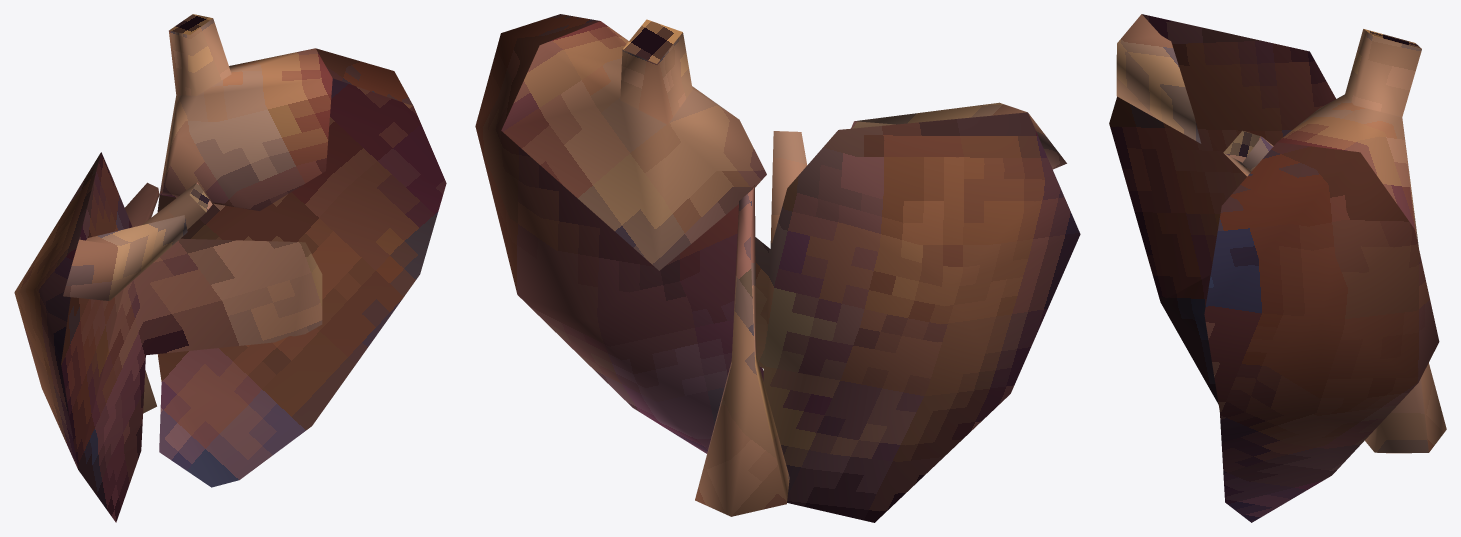
The model's file is eqp_organ_liver_s02_l2.fbx.
The picture shows the model from 3 angles, left to right: view 1: azimuth 30°, elevation 25°; view 2: azimuth 150°, elevation 25°; view 3: azimuth 270°, elevation 25°; orthographic projection. The views are drawn at different scales.
Visible parts, largest first — view 1: mesh_node; view 2: mesh_node; view 3: mesh_node.
Boxes of the visible parts, x1,y1,x2,y2 form: mesh_node: (14,14,446,522); mesh_node: (475,14,1080,522); mesh_node: (1109,14,1446,522).
Bounding box in the file's own units: 0.17 × 0.1633 × 0.0965.
